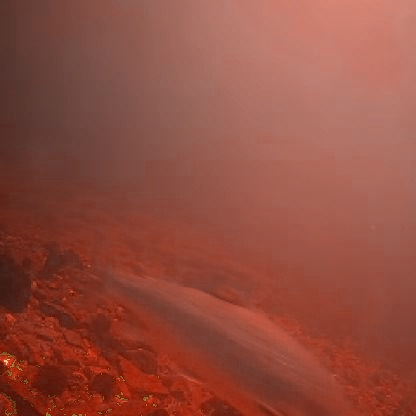salmon: (81, 228, 367, 414)
